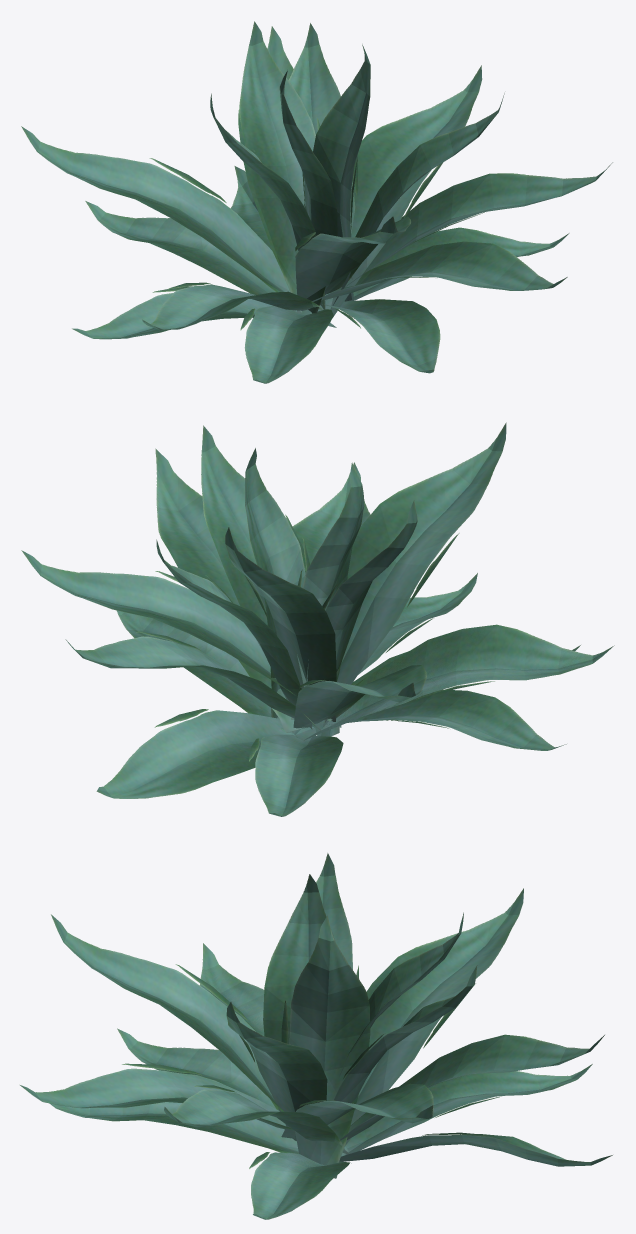
The model's file is Agave.fbx.
3 views of the same model, one above another, from view 1: azimuth 30°, elevation 25°; view 2: azimuth 150°, elevation 25°; view 3: azimuth 270°, elevation 25° (orthographic). The views are drawn at different scales.
Visible parts, largest first — view 1: Mesh19 Component_3_19 Group1 Model; view 2: Mesh19 Component_3_19 Group1 Model; view 3: Mesh19 Component_3_19 Group1 Model.
Boxes of the visible parts, <box> form: Mesh19 Component_3_19 Group1 Model: <box>21,21,612,383</box>; Mesh19 Component_3_19 Group1 Model: <box>21,422,614,816</box>; Mesh19 Component_3_19 Group1 Model: <box>20,853,612,1219</box>.
Bounding box in the file's own units: 66.97 × 36.55 × 71.27.
Materials: 1 (1 with a texture image).
